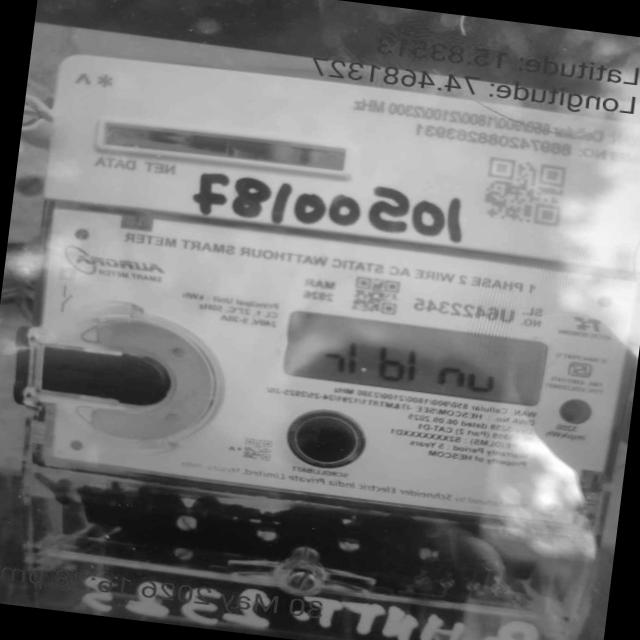meter: (17, 32, 640, 531)
